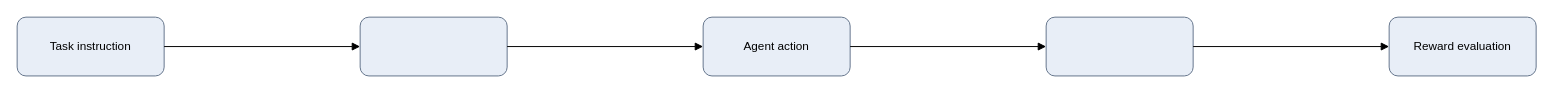
Some shapes in this 1553 by 93 pixel diagram are drawn without their labels. The centre of each missing label's shape, as x and y in pixels:
Browser observation: point 433,46
Browser transition: point 1119,46
